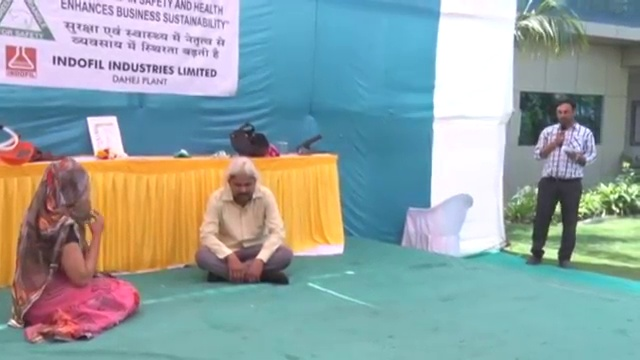helmet_off: (41, 158, 94, 215), (227, 159, 259, 205), (555, 98, 577, 129)
person: (12, 155, 141, 343), (195, 157, 293, 287), (531, 99, 596, 271)
